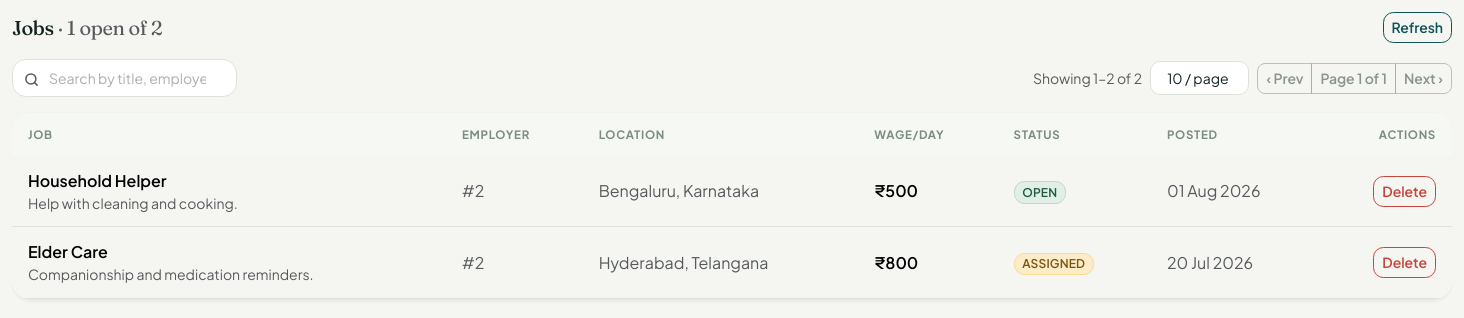
JobManagement › filters the table as the admin types a search
expect the text "Household Helper" is shown: met, box [28,170,167,191]
In the search field: (124, 78) [12,59,237,97], type "elder"
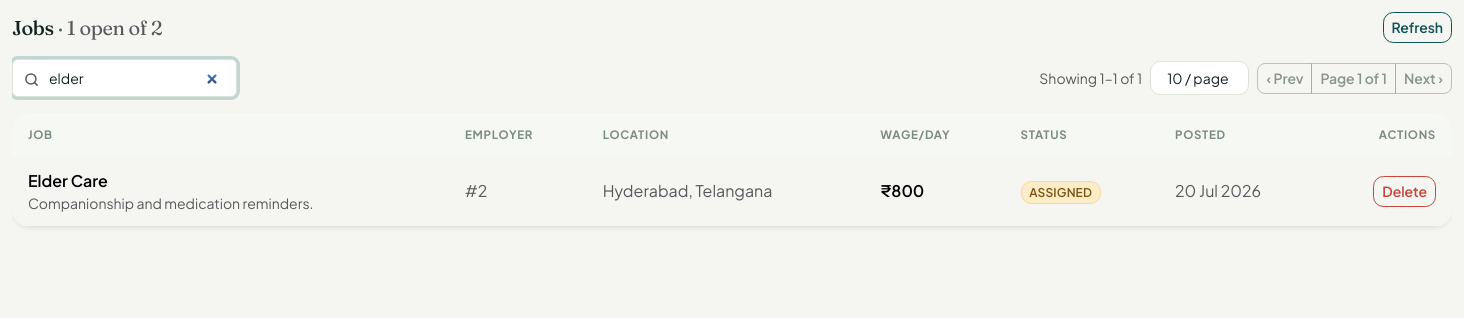
expect the text "Elder Care" is shown: met, box [28,170,108,191]
expect the text "Household Helper" is gone: met
expect the text "Showing 1–1 of 1" is shown: met, box [1039,68,1142,88]
